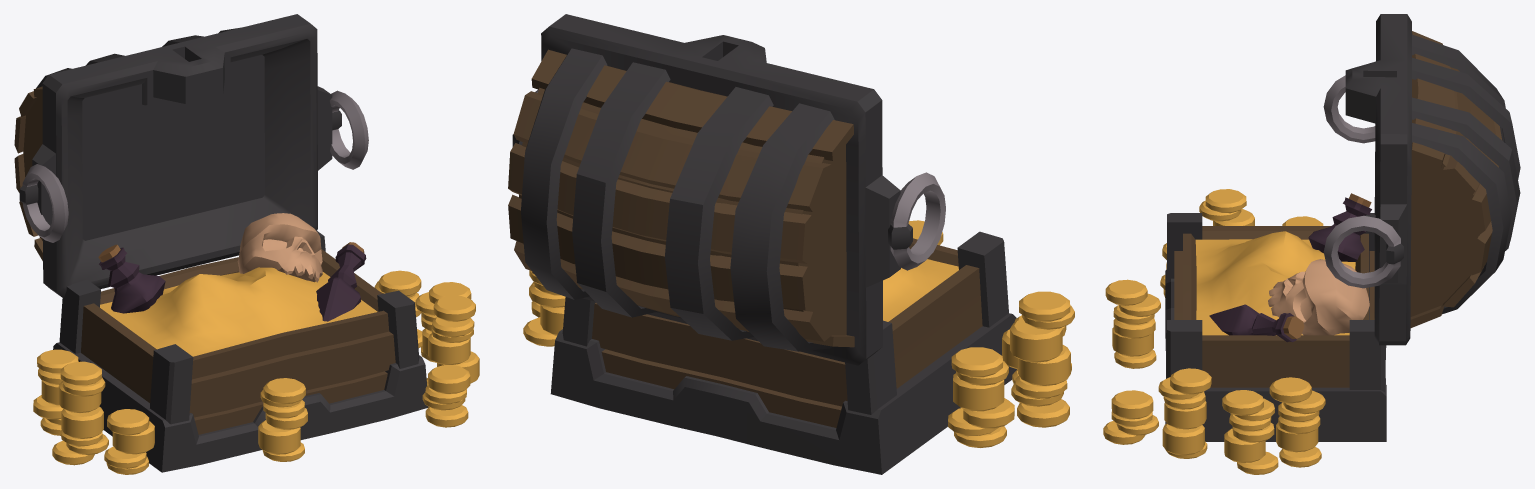
File: chest_gold.glb
3 renders of one model, left to right at view 1: azimuth 30°, elevation 25°; view 2: azimuth 150°, elevation 25°; view 3: azimuth 270°, elevation 25°, orthographic. The views are drawn at different scales.
Visible parts, largest first — view 1: Prop_Chest_Gold; view 2: Prop_Chest_Gold; view 3: Prop_Chest_Gold.
Boxes of the visible parts, x1,y1,x2,y2 form: Prop_Chest_Gold: [14, 14, 479, 474]; Prop_Chest_Gold: [508, 14, 1074, 474]; Prop_Chest_Gold: [1103, 14, 1520, 474].
Size of the model in its own units: 1.82 by 1.29 by 1.59.
Materials: 1 (1 with a texture image).
